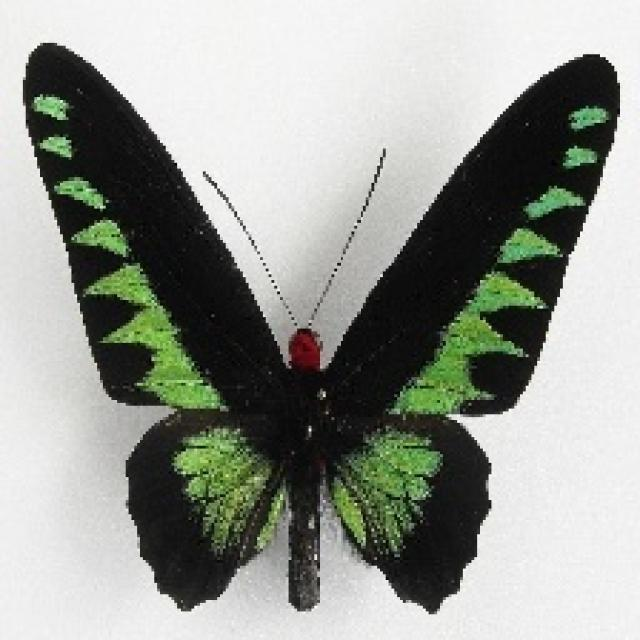butterfly: (17, 37, 620, 612)
